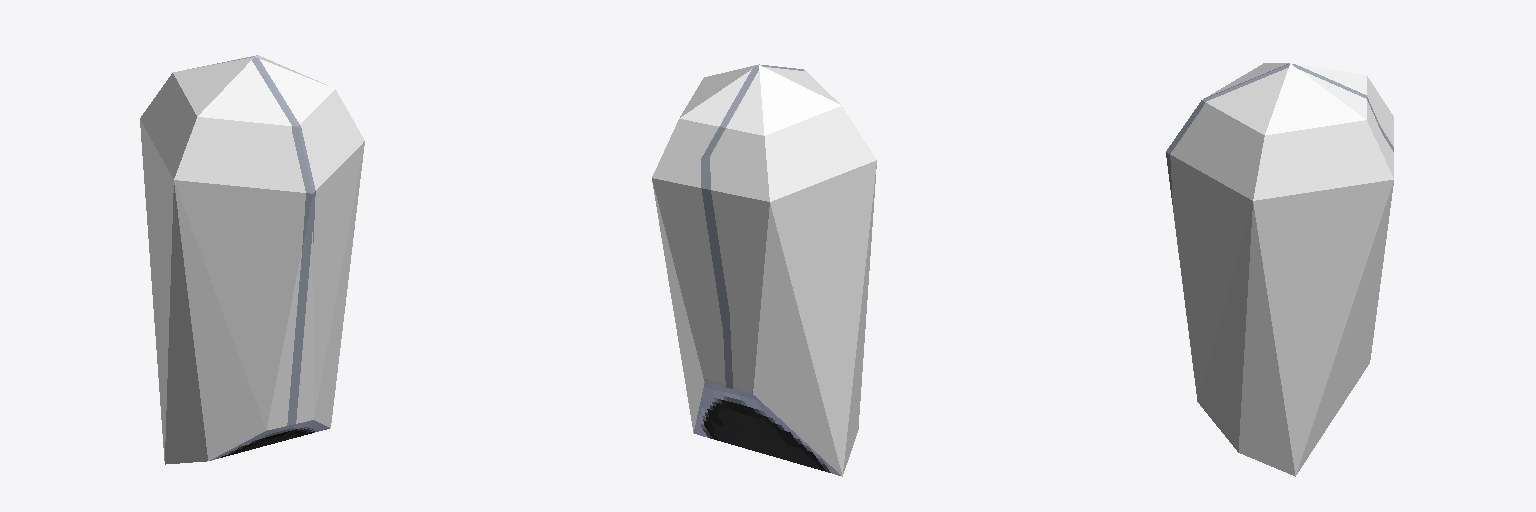
3 renders of one model, left to right at view 1: azimuth 30°, elevation 25°; view 2: azimuth 150°, elevation 25°; view 3: azimuth 270°, elevation 25°, orthographic.
Visible parts, largest first — view 1: buzzlightyRightThigh_buzzlighty.024; view 2: buzzlightyRightThigh_buzzlighty.024; view 3: buzzlightyRightThigh_buzzlighty.024.
Part boxes in pixels (left/top/right/bottom): buzzlightyRightThigh_buzzlighty.024: left=140, top=55, right=364, bottom=464; buzzlightyRightThigh_buzzlighty.024: left=652, top=64, right=876, bottom=476; buzzlightyRightThigh_buzzlighty.024: left=1166, top=63, right=1393, bottom=476.
Size of the model in its own units: 0.091 by 0.1768 by 0.0942.
Materials: 1 (1 with a texture image).